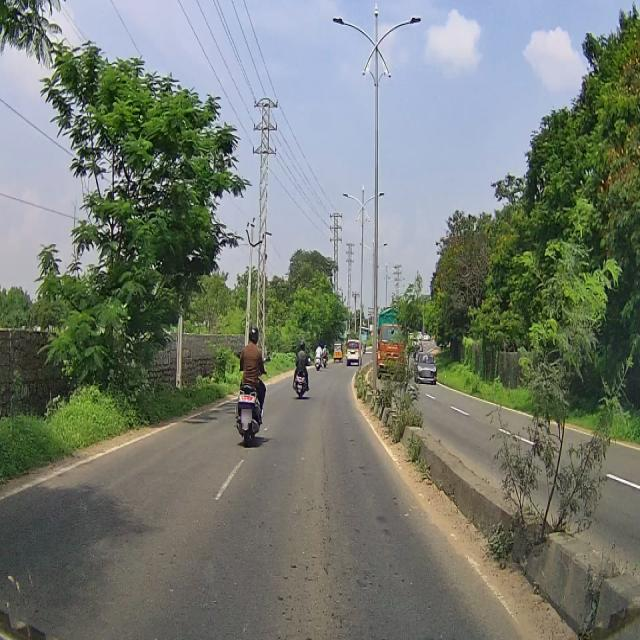motorcycle ahead at: (229, 377, 274, 443)
tree ahead at: (49, 49, 243, 403)
